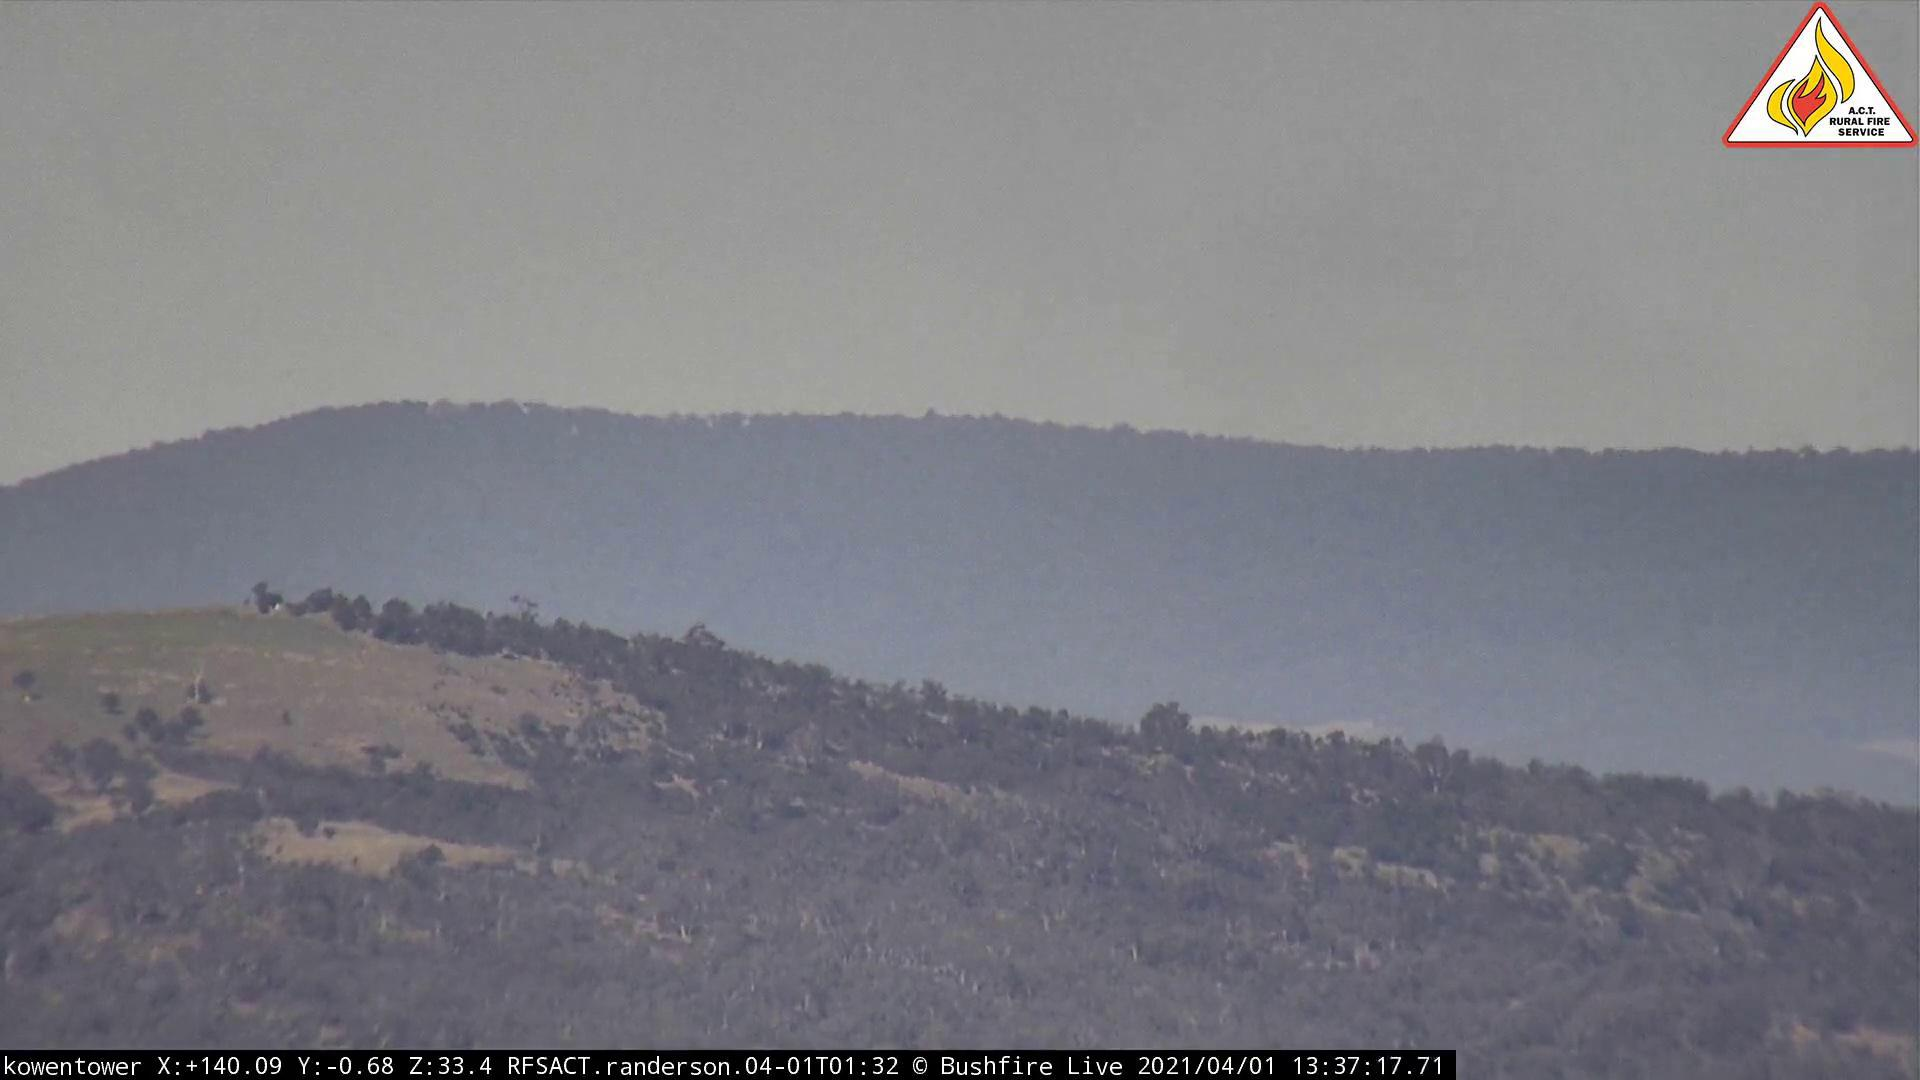Smoke: (1029, 142, 1693, 576)
